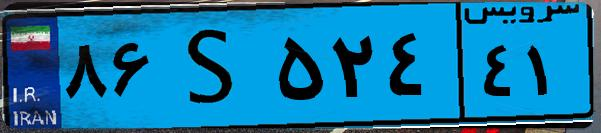1: (525, 38, 570, 115)
2: (330, 28, 385, 110)
4: (385, 28, 445, 110), (475, 38, 525, 113)
5: (270, 28, 330, 110)
6: (110, 28, 158, 98)
8: (57, 26, 110, 100)
S: (158, 12, 270, 120)
